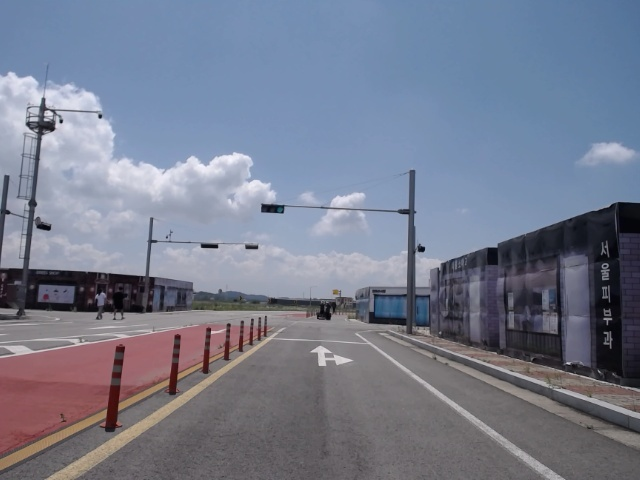green_3: (263, 204, 284, 214)
